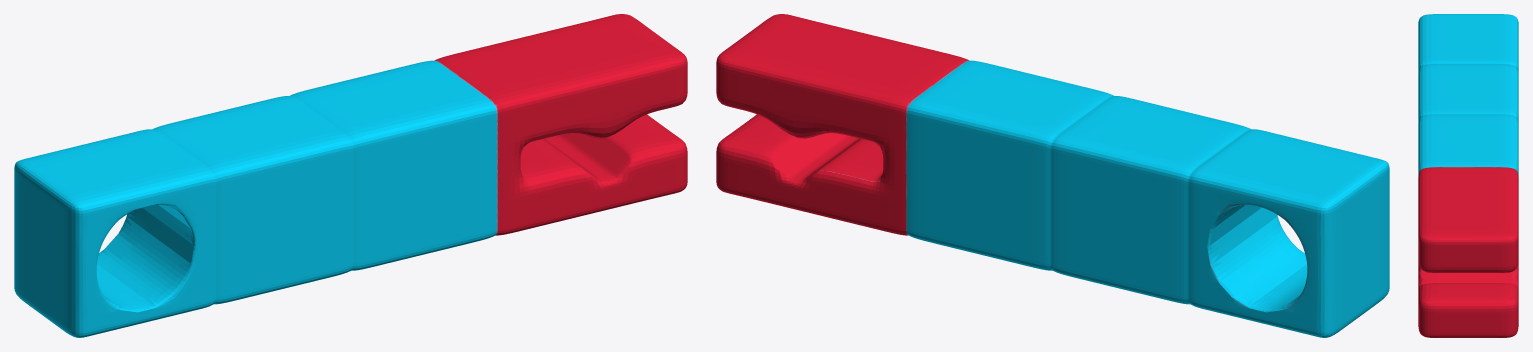
Rendered from Robotoy_ArmR.fbx.
3 views of the same model, side by side, from view 1: azimuth 30°, elevation 25°; view 2: azimuth 150°, elevation 25°; view 3: azimuth 270°, elevation 25° (orthographic). The views are drawn at different scales.
Visible parts, largest first — view 1: Arm_R; view 2: Arm_R; view 3: Arm_R.
Part boxes in pixels (left/top/right/bottom): Arm_R: left=14, top=14, right=687, bottom=337; Arm_R: left=716, top=14, right=1389, bottom=337; Arm_R: left=1418, top=14, right=1518, bottom=337.
Bounding box in the file's own units: 260 × 55 × 48.59.
